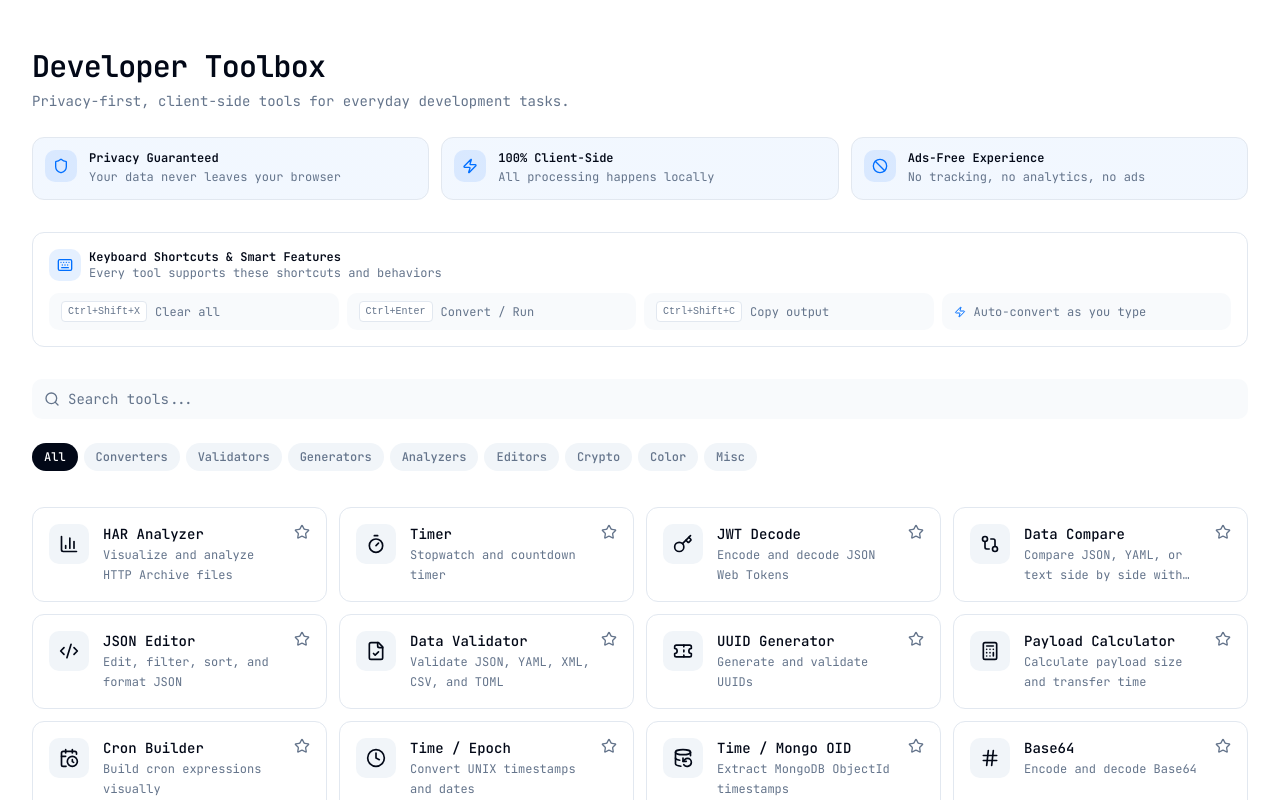
Test: HomePage › search filtering › filters tools by name
Type "jwt" into the search field labelled "Search tools..." at (640, 399), box [32,379,1248,419]
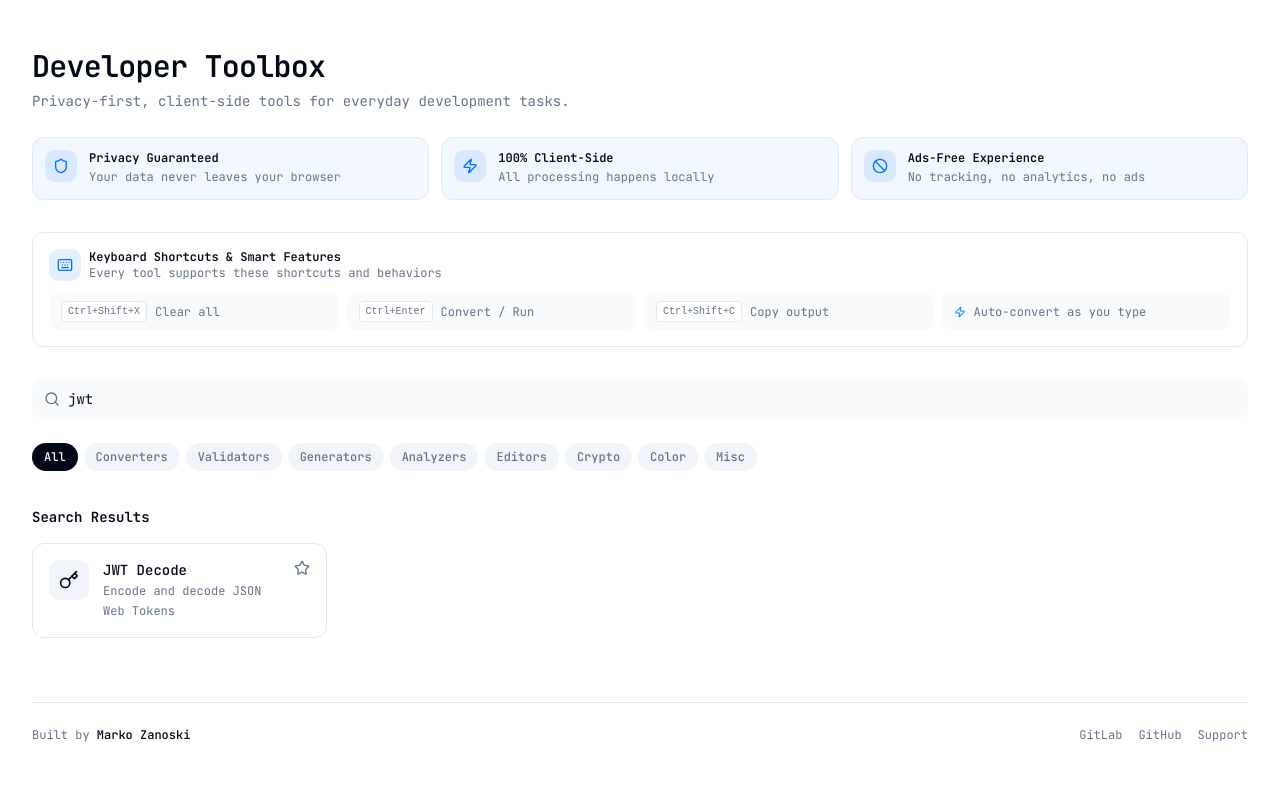
Expected: the text "JWT Decode" is shown, [103,560,187,580]
Expected: the link "UUID Generator" is gone
